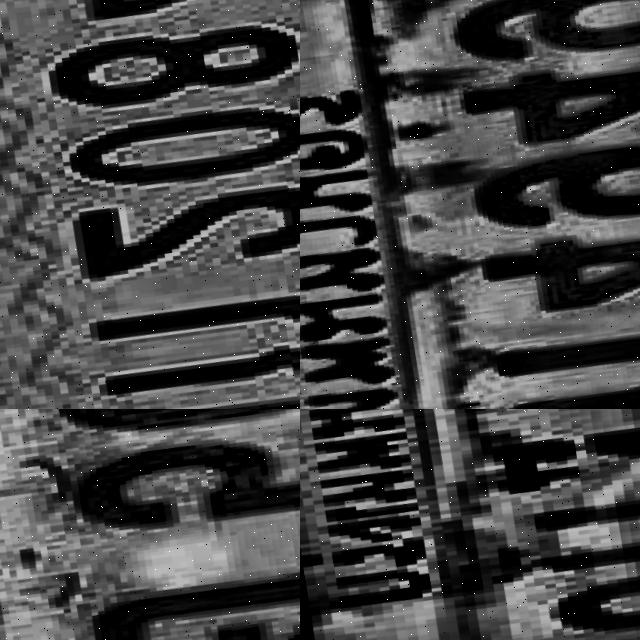license-plate: (300, 0, 640, 409), (0, 0, 300, 409), (300, 409, 640, 640), (0, 409, 300, 640)
